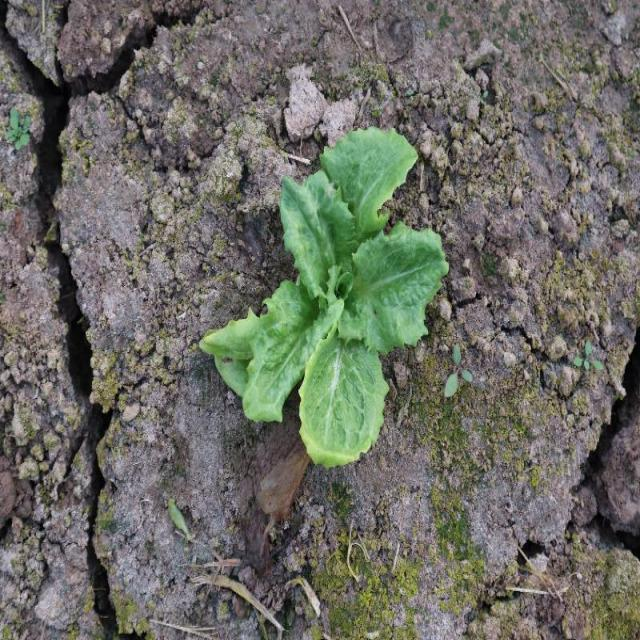crop: (249, 130, 446, 463)
